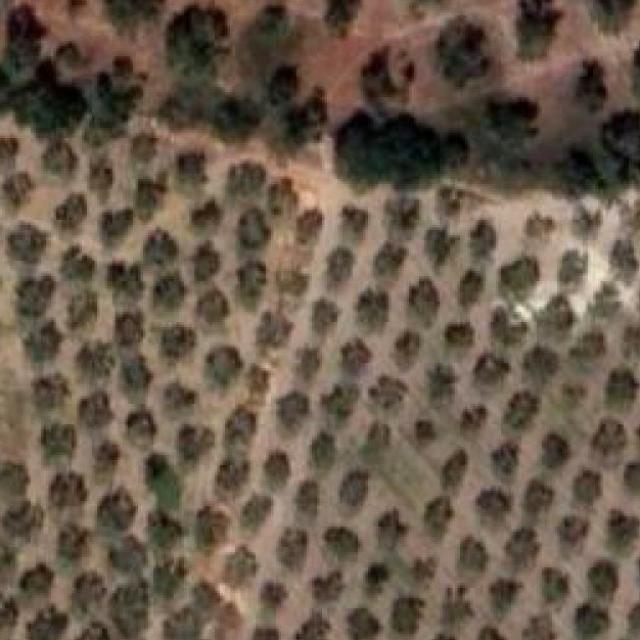Tree: (334, 113, 462, 187), (557, 113, 640, 191), (11, 64, 89, 138), (166, 5, 230, 83), (239, 5, 297, 84), (155, 67, 221, 136), (81, 72, 143, 138), (0, 0, 49, 79), (433, 18, 488, 87), (204, 90, 258, 141), (519, 0, 563, 59), (484, 92, 536, 140), (108, 581, 150, 637), (288, 90, 328, 146), (361, 46, 396, 105), (145, 452, 181, 508), (534, 294, 574, 338), (499, 256, 539, 300), (95, 0, 161, 26), (574, 59, 605, 112), (6, 222, 46, 263), (22, 321, 62, 362), (97, 488, 136, 530), (316, 0, 360, 37), (158, 606, 205, 640), (1, 501, 43, 539), (205, 344, 242, 386), (152, 555, 189, 597), (404, 279, 440, 321), (605, 511, 639, 554), (592, 0, 636, 33), (236, 260, 266, 308), (605, 368, 639, 410), (17, 276, 51, 318), (48, 472, 87, 508), (237, 208, 271, 249), (224, 547, 258, 588), (136, 174, 166, 220), (492, 306, 528, 344), (522, 346, 558, 384), (108, 536, 146, 572), (26, 606, 66, 640), (195, 506, 227, 548), (503, 392, 539, 429), (76, 341, 112, 378), (146, 509, 181, 547), (423, 228, 457, 267), (609, 240, 639, 284), (277, 391, 309, 432), (73, 572, 104, 614), (276, 530, 307, 572), (32, 373, 68, 409), (591, 419, 626, 456), (141, 230, 176, 267), (505, 530, 539, 568), (422, 496, 452, 538), (41, 141, 77, 176), (369, 376, 406, 410), (588, 559, 618, 600), (125, 406, 155, 447), (375, 511, 406, 550), (225, 407, 256, 446), (178, 427, 212, 462), (79, 392, 112, 428), (558, 376, 591, 412), (471, 353, 508, 385), (152, 274, 184, 311), (260, 315, 291, 353), (56, 524, 87, 562), (160, 325, 194, 359), (322, 527, 358, 559), (1, 172, 33, 208), (108, 264, 144, 296), (266, 179, 296, 217), (321, 387, 355, 420), (386, 197, 419, 231), (62, 245, 94, 280), (589, 283, 620, 319), (18, 564, 54, 595), (356, 292, 385, 330), (103, 51, 136, 84), (195, 289, 227, 323), (458, 536, 488, 572), (476, 491, 512, 521), (340, 341, 370, 377), (100, 210, 130, 246), (54, 194, 84, 230), (120, 354, 150, 390), (186, 578, 216, 614), (347, 608, 380, 640), (392, 601, 424, 634), (193, 243, 220, 282), (524, 481, 554, 516), (573, 470, 601, 506), (542, 433, 570, 469), (338, 470, 365, 507), (230, 164, 261, 196), (41, 427, 71, 460), (446, 586, 472, 624), (470, 220, 496, 258), (393, 330, 419, 368), (570, 332, 606, 359), (294, 613, 330, 640), (326, 248, 353, 284), (372, 245, 404, 275), (241, 496, 271, 528), (215, 460, 245, 492), (263, 450, 288, 488), (342, 205, 368, 241), (541, 568, 567, 604), (311, 298, 337, 334), (94, 440, 120, 476), (272, 66, 296, 105), (577, 608, 608, 638), (71, 294, 97, 329), (297, 210, 322, 246), (175, 153, 204, 184), (310, 571, 339, 602), (459, 271, 483, 308), (490, 581, 518, 612), (310, 433, 334, 469), (293, 348, 319, 381), (163, 385, 196, 411), (293, 481, 317, 516), (426, 368, 452, 400), (115, 312, 140, 345), (619, 322, 640, 361), (559, 519, 588, 547), (191, 199, 220, 227), (572, 208, 600, 237), (0, 465, 26, 496), (442, 450, 462, 489), (491, 443, 516, 474), (88, 159, 112, 191), (562, 254, 585, 287), (258, 581, 286, 608), (131, 136, 155, 165), (246, 365, 268, 396), (460, 407, 486, 433), (525, 615, 552, 640), (55, 43, 82, 68), (0, 593, 18, 630), (446, 325, 472, 348), (368, 424, 389, 452), (76, 623, 110, 640), (622, 199, 640, 231), (528, 218, 552, 239), (368, 565, 385, 594), (414, 422, 435, 445), (0, 541, 16, 570), (414, 557, 433, 581), (626, 462, 640, 492), (479, 625, 507, 640), (0, 138, 16, 160), (246, 629, 278, 640), (630, 602, 640, 633), (426, 634, 455, 640)
